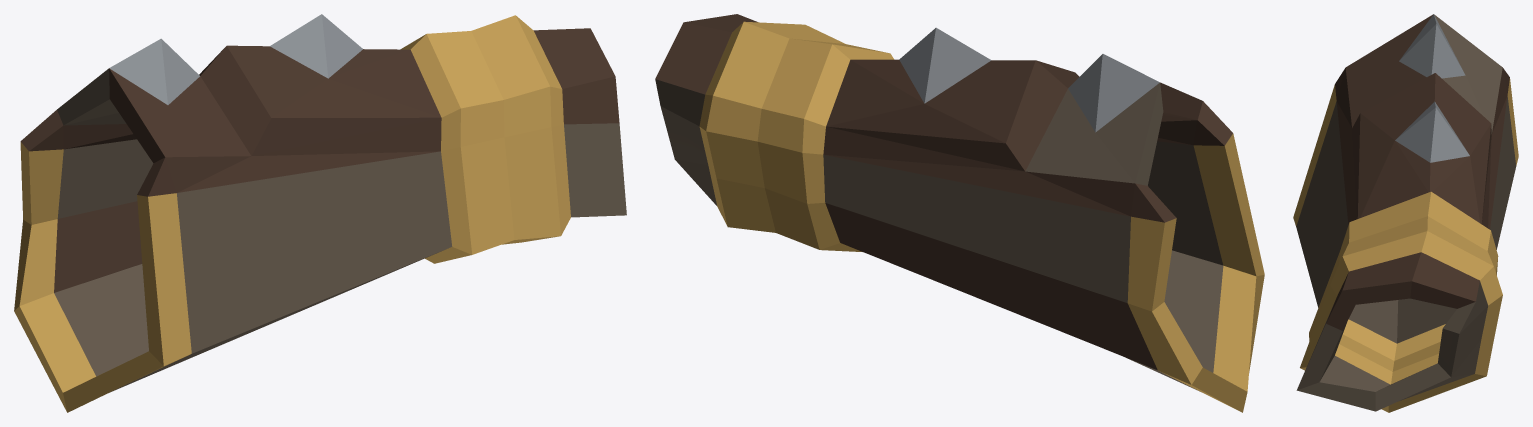
Rendered from Chr_ArmLowerLeft_Female_01_Drop.fbx.
3 renders of one model, left to right at view 1: azimuth 30°, elevation 25°; view 2: azimuth 150°, elevation 25°; view 3: azimuth 270°, elevation 25°, orthographic. The views are drawn at different scales.
Parts seen in each view (by area): view 1: Chr_ArmLowerLeft_Female_01_Static; view 2: Chr_ArmLowerLeft_Female_01_Static; view 3: Chr_ArmLowerLeft_Female_01_Static.
Boxes of the visible parts, box(x1,y1,x2,y2) form: Chr_ArmLowerLeft_Female_01_Static: box(14, 14, 626, 412); Chr_ArmLowerLeft_Female_01_Static: box(655, 14, 1264, 412); Chr_ArmLowerLeft_Female_01_Static: box(1293, 14, 1518, 412).
Bounding box in the file's own units: 23.43 × 13.89 × 9.45.
